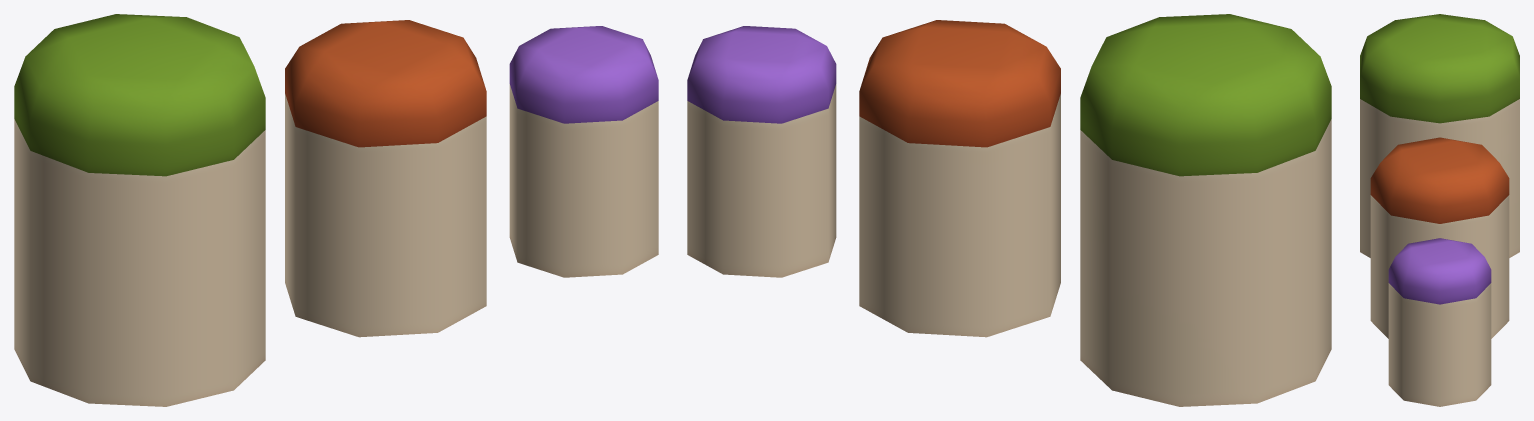
Rendered from jars_01.fbx.
The picture shows the model from 3 angles, left to right: view 1: azimuth 30°, elevation 25°; view 2: azimuth 150°, elevation 25°; view 3: azimuth 270°, elevation 25°; orthographic projection. The views are drawn at different scales.
Parts seen in each view (by area): view 1: jars_01_ready; view 2: jars_01_ready; view 3: jars_01_ready.
Part boxes in pixels (<box>): jars_01_ready: <box>14,14,658,406</box>; jars_01_ready: <box>687,14,1331,406</box>; jars_01_ready: <box>1360,14,1519,406</box>.
Bounding box in the file's own units: 69.3 × 32.67 × 23.26.
